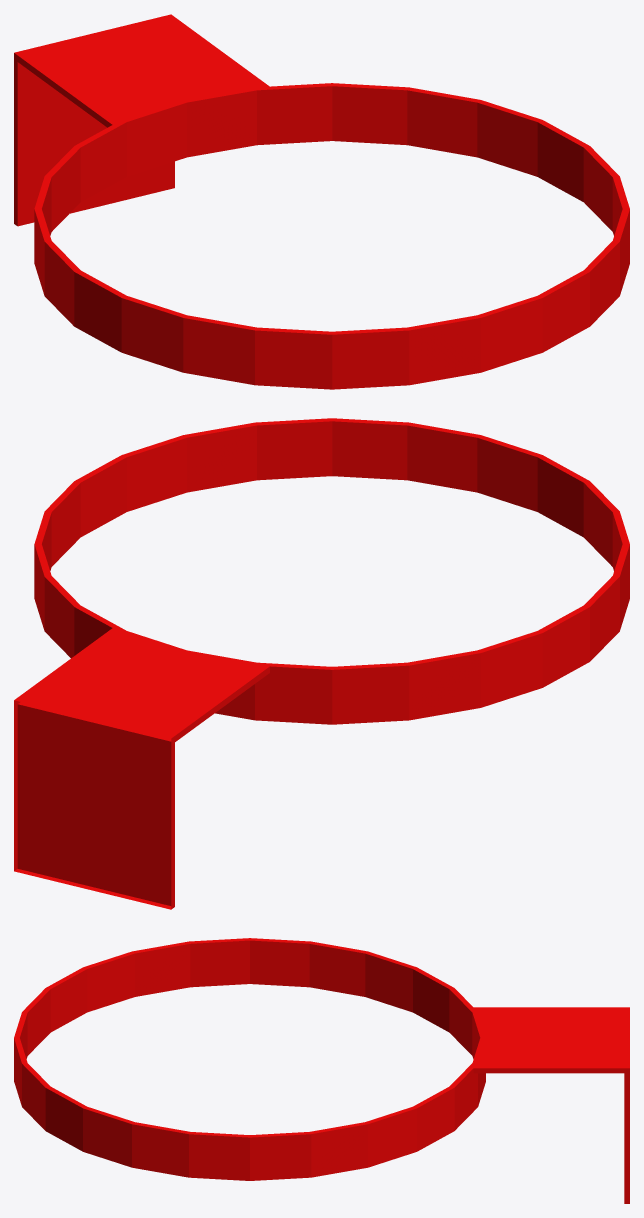
File: aro.fbx
The picture shows the model from 3 angles, top to bottom: view 1: azimuth 30°, elevation 25°; view 2: azimuth 150°, elevation 25°; view 3: azimuth 270°, elevation 25°; orthographic projection. The views are drawn at different scales.
Parts seen in each view (by area): view 1: aro; view 2: aro; view 3: aro.
Part boxes in pixels (<box>): aro: <box>14,14,629,389</box>; aro: <box>14,418,629,909</box>; aro: <box>14,938,629,1203</box>.
Bounding box in the file's own units: 253 × 194 × 61.42.
